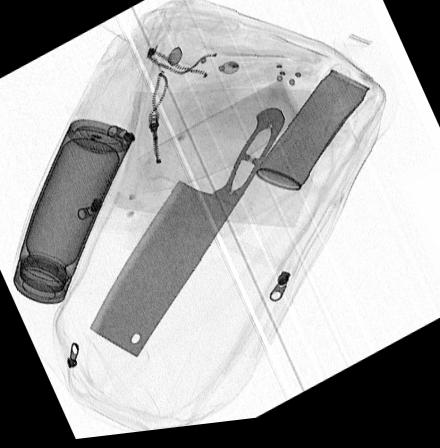Knife: (88, 114, 285, 362)
